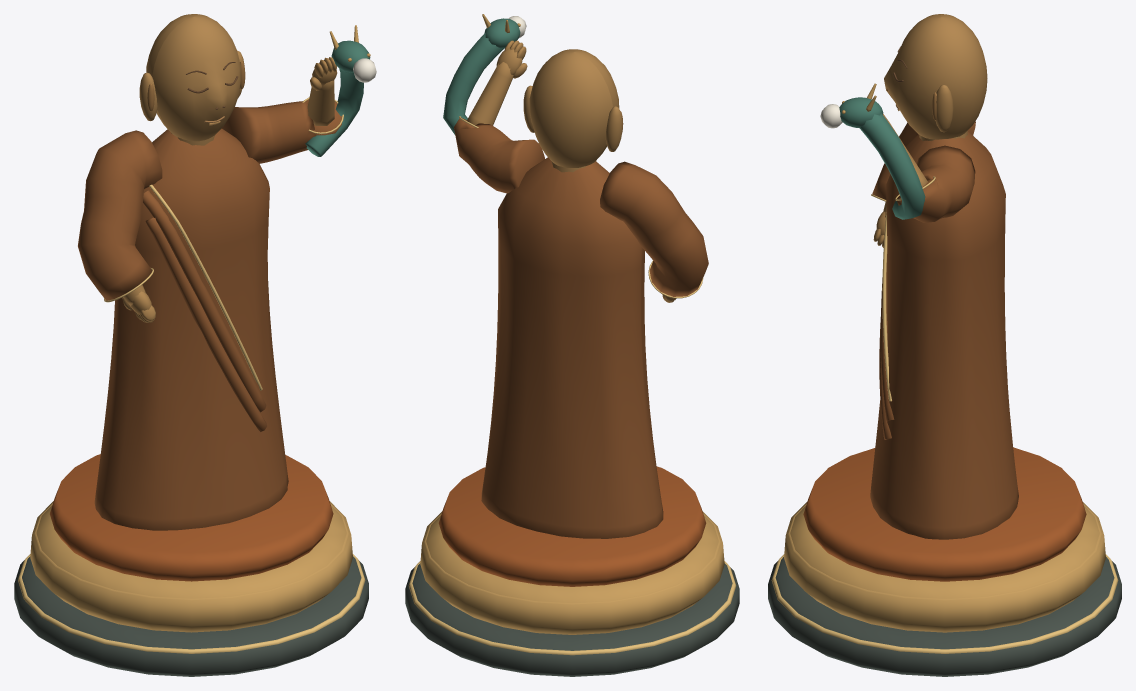
File: arhat_01_lod1.glb
The picture shows the model from 3 angles, left to right: view 1: azimuth 30°, elevation 25°; view 2: azimuth 150°, elevation 25°; view 3: azimuth 270°, elevation 25°; orthographic projection. The views are drawn at different scales.
Visible parts, largest first — view 1: arhat_01_ArhatDrapery, arhat_01_AntiqueGold, arhat_01_SaffronDrapery, arhat_01_CarvedPlinth, arhat_01_WarmBronze, arhat_01_RaisedGoldBorders, arhat_01_JadeAccents; view 2: arhat_01_ArhatDrapery, arhat_01_AntiqueGold, arhat_01_SaffronDrapery, arhat_01_CarvedPlinth, arhat_01_WarmBronze, arhat_01_JadeAccents, arhat_01_RaisedGoldBorders; view 3: arhat_01_ArhatDrapery, arhat_01_SaffronDrapery, arhat_01_AntiqueGold, arhat_01_CarvedPlinth, arhat_01_WarmBronze, arhat_01_JadeAccents, arhat_01_RaisedGoldBorders.
Boxes of the visible parts, x1,y1,x2,y2 form: arhat_01_ArhatDrapery: (78, 99, 341, 530); arhat_01_AntiqueGold: (30, 25, 370, 632); arhat_01_SaffronDrapery: (50, 454, 333, 581); arhat_01_CarvedPlinth: (14, 556, 368, 676); arhat_01_WarmBronze: (122, 14, 337, 322); arhat_01_RaisedGoldBorders: (18, 97, 365, 653); arhat_01_JadeAccents: (305, 40, 370, 156); arhat_01_ArhatDrapery: (454, 117, 708, 538); arhat_01_AntiqueGold: (420, 14, 724, 634); arhat_01_SaffronDrapery: (438, 466, 706, 586); arhat_01_CarvedPlinth: (405, 563, 739, 676); arhat_01_WarmBronze: (466, 40, 676, 302); arhat_01_JadeAccents: (443, 18, 520, 134); arhat_01_RaisedGoldBorders: (408, 116, 736, 655); arhat_01_ArhatDrapery: (870, 121, 1018, 539); arhat_01_SaffronDrapery: (803, 447, 1086, 581); arhat_01_AntiqueGold: (784, 83, 1105, 632); arhat_01_CarvedPlinth: (768, 557, 1121, 676); arhat_01_WarmBronze: (873, 14, 987, 247); arhat_01_JadeAccents: (839, 97, 925, 219); arhat_01_RaisedGoldBorders: (771, 176, 1118, 653).
Bounding box in the file's own units: 0.92 × 1.69 × 0.92.
